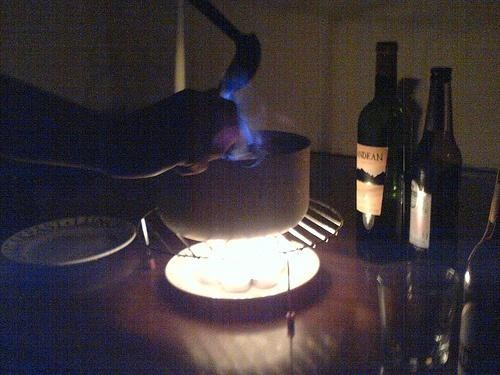bottle: (355, 39, 413, 264), (413, 65, 465, 268), (464, 166, 500, 375)
